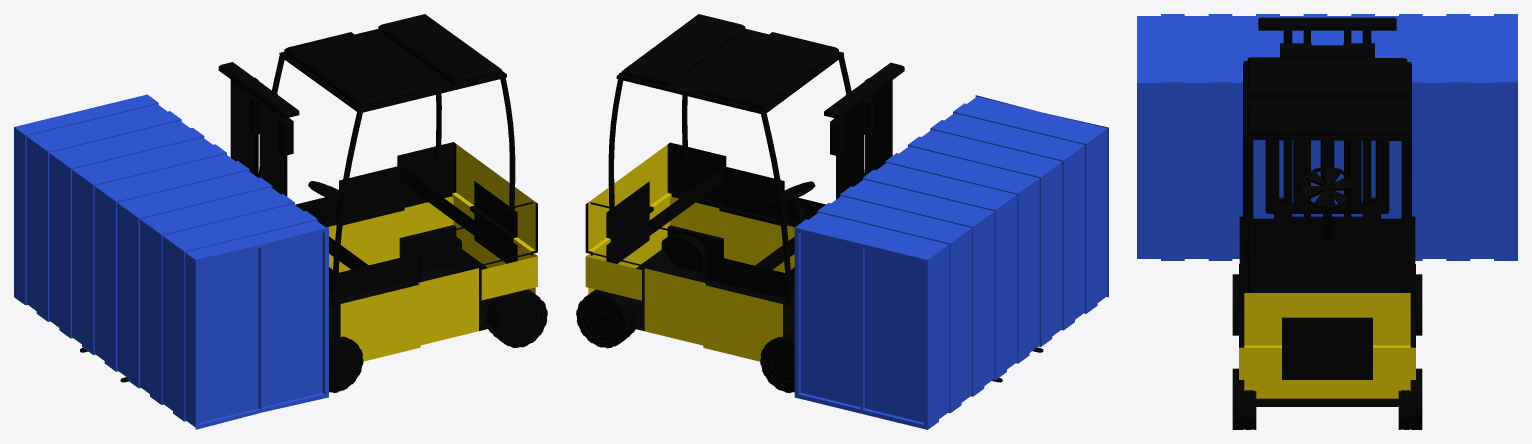
The model's file is stacker2.fbx.
3 renders of one model, left to right at view 1: azimuth 30°, elevation 25°; view 2: azimuth 150°, elevation 25°; view 3: azimuth 270°, elevation 25°, orthographic. The views are drawn at different scales.
Parts seen in each view (by area): view 1: Containers.001, Plane, Circle.001, Cylinder; view 2: Containers.001, Plane, Circle.001, Cylinder; view 3: Containers.001, Plane, Plane.001, Circle.001, Cylinder, Circle.
Part boxes in pixels (x1=…): Containers.001: x1=14, y1=94, x2=328, y2=429; Plane: x1=218, y1=14, x2=537, y2=361; Circle.001: x1=329, y1=232, x2=547, y2=392; Cylinder: x1=258, y1=54, x2=515, y2=307; Containers.001: x1=794, y1=95, x2=1108, y2=429; Plane: x1=585, y1=14, x2=904, y2=361; Circle.001: x1=576, y1=233, x2=794, y2=392; Cylinder: x1=608, y1=54, x2=864, y2=307; Containers.001: x1=1137, y1=14, x2=1517, y2=260; Plane: x1=1239, y1=17, x2=1415, y2=406; Plane.001: x1=1265, y1=140, x2=1389, y2=213; Circle.001: x1=1232, y1=274, x2=1422, y2=429; Cylinder: x1=1243, y1=63, x2=1411, y2=291; Circle: x1=1301, y1=166, x2=1353, y2=210.
Size of the model in its own units: 407 by 272 by 319.
